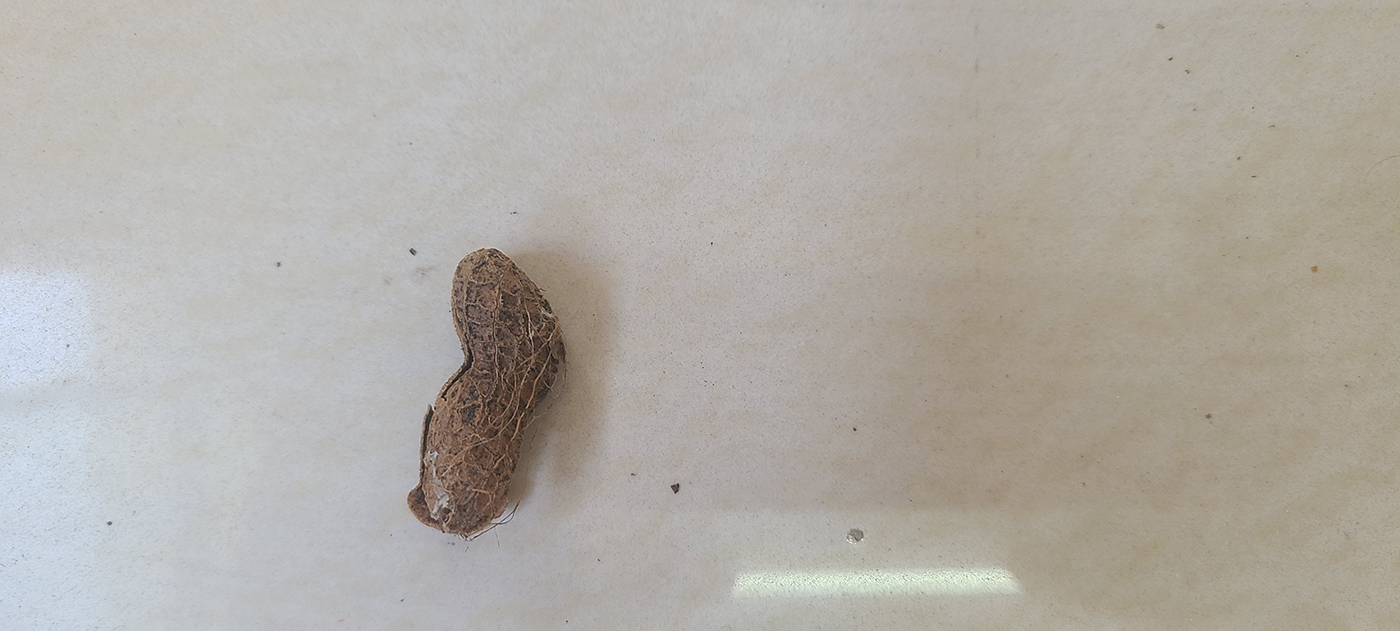l: (408, 245, 564, 539)
